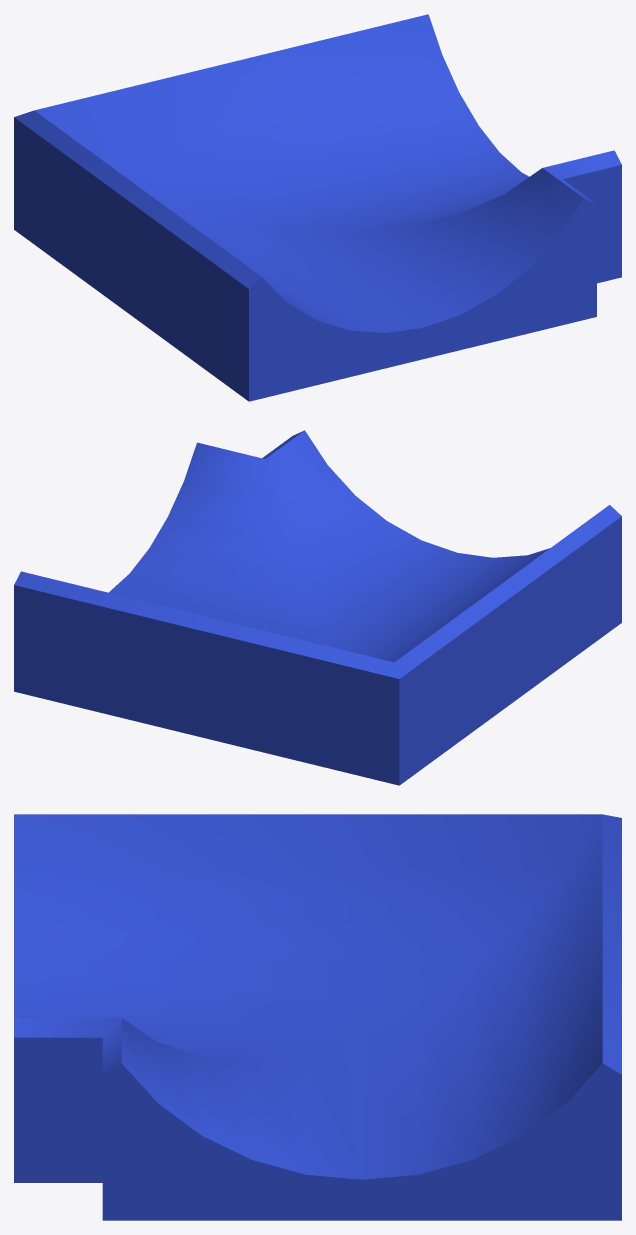
Rendered from RoundCorr_UnderFloor_LType_A.FBX.
The picture shows the model from 3 angles, top to bottom: view 1: azimuth 30°, elevation 25°; view 2: azimuth 150°, elevation 25°; view 3: azimuth 270°, elevation 25°; orthographic projection. The views are drawn at different scales.
Visible parts, largest first — view 1: RoundCorr_UnderFloor_LType_A; view 2: RoundCorr_UnderFloor_LType_A; view 3: RoundCorr_UnderFloor_LType_A.
Part boxes in pixels (x1,y1,x2,y2): RoundCorr_UnderFloor_LType_A: (14,14,621,401); RoundCorr_UnderFloor_LType_A: (14,430,621,785); RoundCorr_UnderFloor_LType_A: (14,814,621,1220).
Size of the model in its own units: 526 by 150 by 526.
